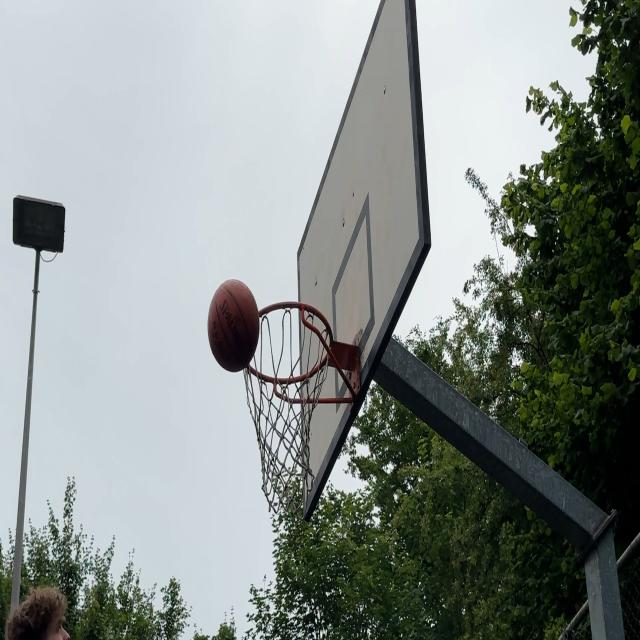rebound_hit: (208, 280, 264, 374)
